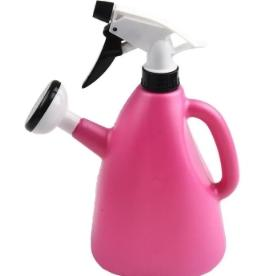ARROSOIR: (20, 0, 261, 276)
